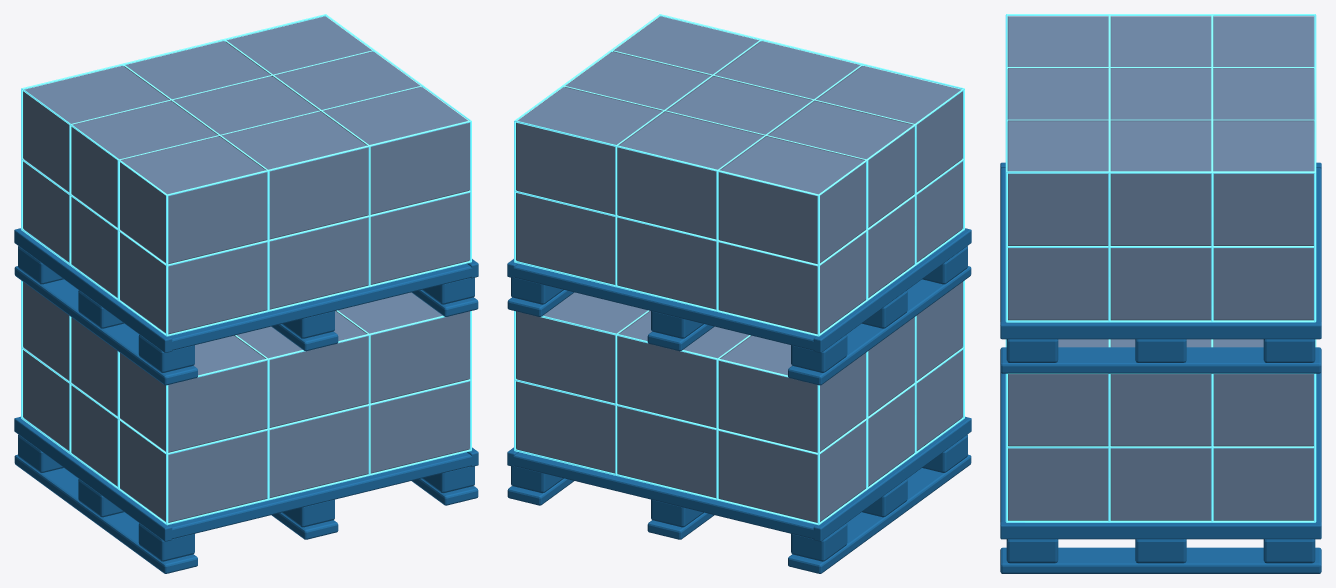
File: SM_GHS_Presentation_CargoLow.fbx
The picture shows the model from 3 angles, left to right: view 1: azimuth 30°, elevation 25°; view 2: azimuth 150°, elevation 25°; view 3: azimuth 270°, elevation 25°; orthographic projection. The views are drawn at different scales.
Parts seen in each view (by area): view 1: SM_GHS_Presentation_CargoLow; view 2: SM_GHS_Presentation_CargoLow; view 3: SM_GHS_Presentation_CargoLow.
Part boxes in pixels (box(x1,y1,x2,y2)): SM_GHS_Presentation_CargoLow: box(14, 14, 478, 573); SM_GHS_Presentation_CargoLow: box(507, 14, 971, 573); SM_GHS_Presentation_CargoLow: box(1000, 14, 1321, 573).
Bounding box in the file's own units: 120 × 100 × 138.
